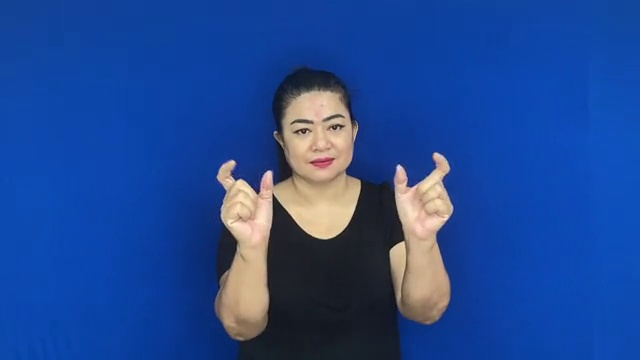crab: (213, 148, 459, 252)
